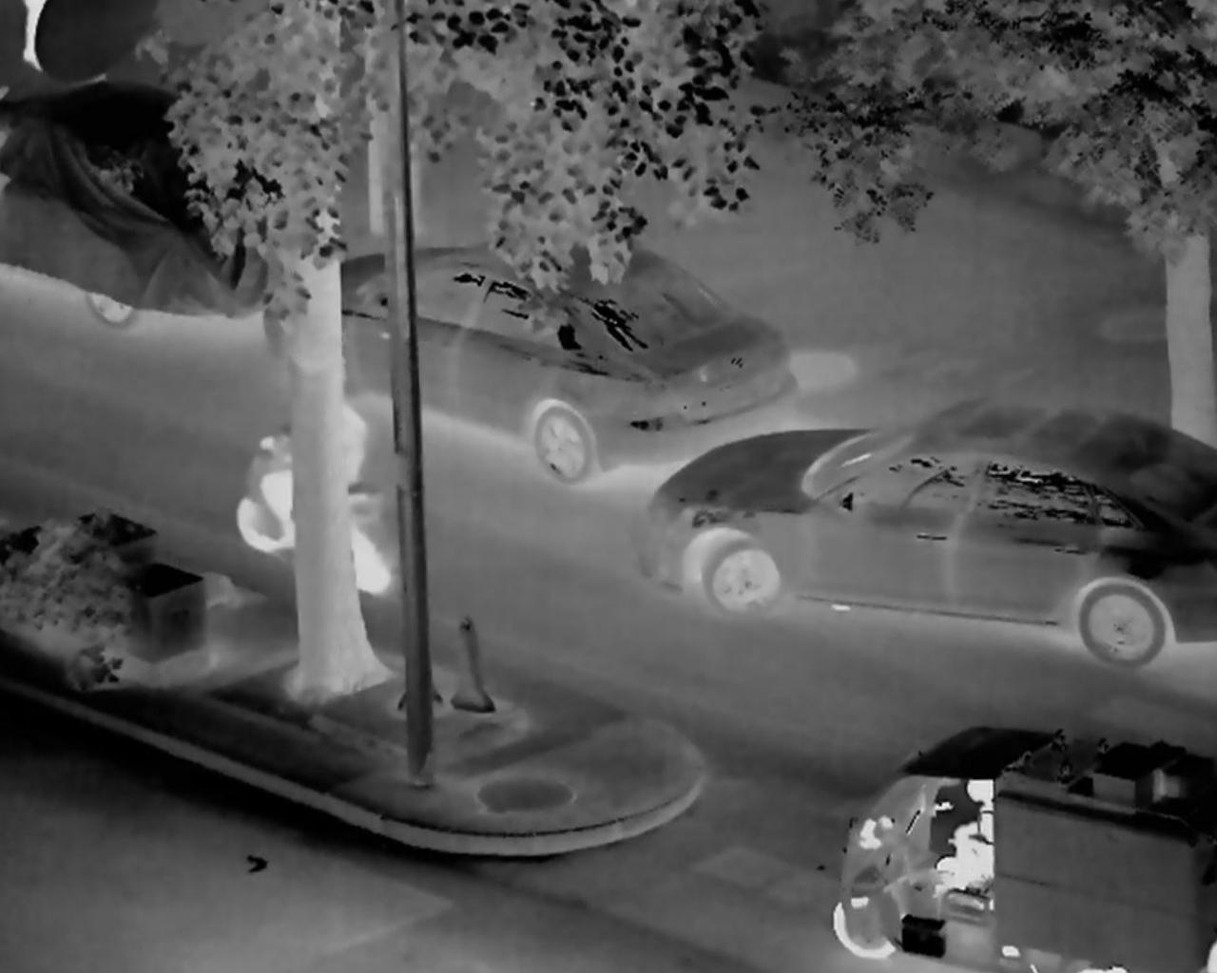person: (242, 390, 374, 597), (927, 776, 992, 885)
